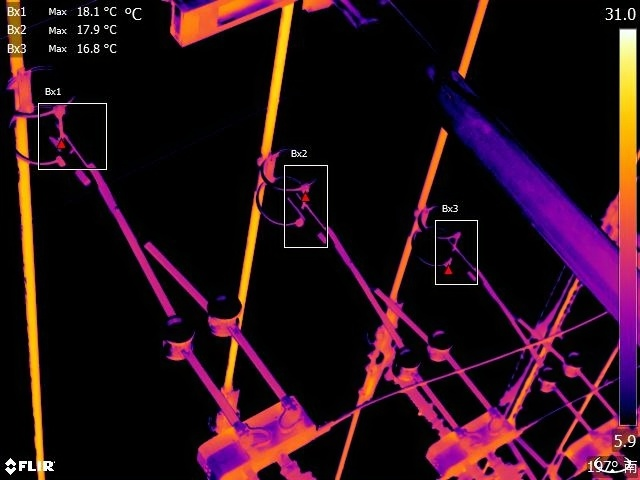switch: (61, 128, 287, 425), (296, 195, 488, 430), (434, 229, 606, 423)
